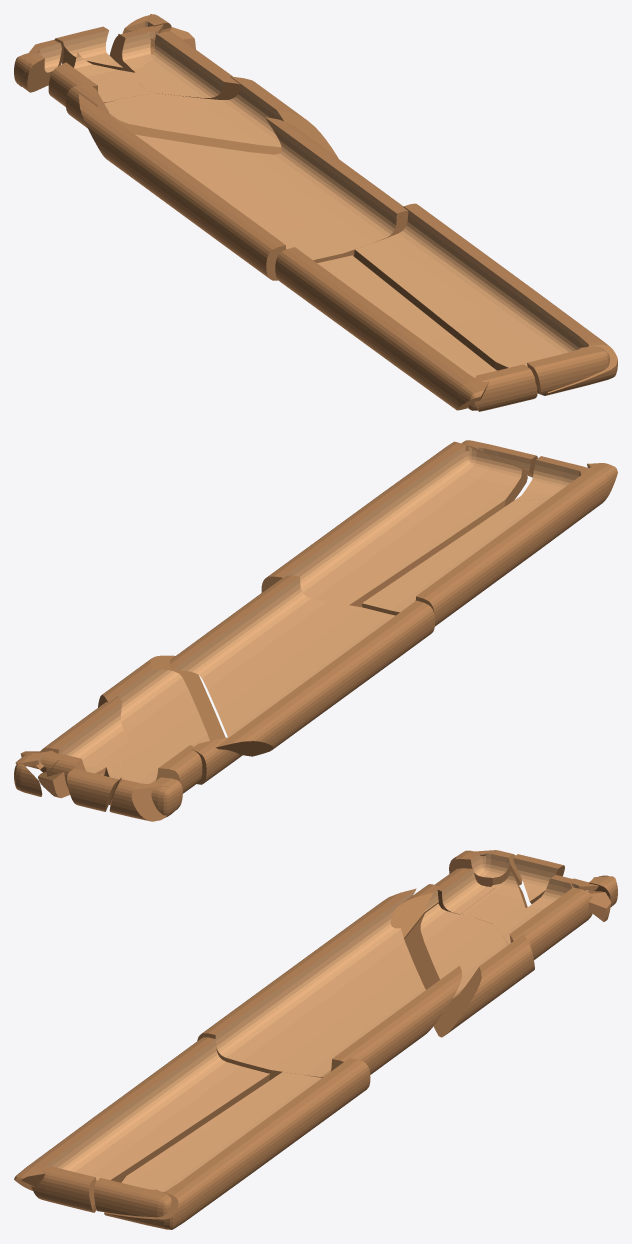
Rendered from Button1.fbx.
The picture shows the model from 3 angles, top to bottom: view 1: azimuth 30°, elevation 25°; view 2: azimuth 150°, elevation 25°; view 3: azimuth 330°, elevation 25°; orthographic projection. The views are drawn at different scales.
Parts seen in each view (by area): view 1: HealthPanel_cell.009, HealthPanel_cell.002, HealthPanel_cell.013, HealthPanel_cell.016, HealthPanel_cell.014, HealthPanel_cell.012, HealthPanel_cell.017, HealthPanel_cell.006, HealthPanel_cell.010, HealthPanel_cell.015, HealthPanel_cell.011, HealthPanel_cell.007 (+1 smaller); view 2: HealthPanel_cell.009, HealthPanel_cell.002, HealthPanel_cell.013, HealthPanel_cell.016, HealthPanel_cell.014, HealthPanel_cell.015, HealthPanel_cell.017, HealthPanel_cell.006, HealthPanel_cell.007, HealthPanel_cell.010, HealthPanel_cell.003, HealthPanel_cell.012 (+4 smaller); view 3: HealthPanel_cell.009, HealthPanel_cell.002, HealthPanel_cell.013, HealthPanel_cell.016, HealthPanel_cell.014, HealthPanel_cell.012, HealthPanel_cell.017, HealthPanel_cell.015, HealthPanel_cell.007, HealthPanel_cell.010, HealthPanel_cell.006, HealthPanel_cell.003 (+2 smaller).
Boxes of the visible parts, <box> form: HealthPanel_cell.009: <box>79,94,408,280</box>; HealthPanel_cell.002: <box>354,203,617,395</box>; HealthPanel_cell.013: <box>275,247,495,410</box>; HealthPanel_cell.016: <box>104,76,338,158</box>; HealthPanel_cell.014: <box>132,31,240,99</box>; HealthPanel_cell.012: <box>527,346,609,394</box>; HealthPanel_cell.017: <box>474,364,537,411</box>; HealthPanel_cell.006: <box>54,26,123,69</box>; HealthPanel_cell.010: <box>74,52,153,99</box>; HealthPanel_cell.015: <box>21,40,61,92</box>; HealthPanel_cell.011: <box>109,30,152,72</box>; HealthPanel_cell.007: <box>48,62,114,106</box>; HealthPanel_cell.009: <box>170,575,434,756</box>; HealthPanel_cell.002: <box>261,441,527,607</box>; HealthPanel_cell.013: <box>362,463,617,626</box>; HealthPanel_cell.016: <box>98,655,225,761</box>; HealthPanel_cell.014: <box>39,696,136,772</box>; HealthPanel_cell.015: <box>109,777,182,821</box>; HealthPanel_cell.017: <box>517,456,589,501</box>; HealthPanel_cell.006: <box>67,768,118,811</box>; HealthPanel_cell.007: <box>141,745,202,793</box>; HealthPanel_cell.010: <box>104,751,167,805</box>; HealthPanel_cell.003: <box>191,737,242,784</box>; HealthPanel_cell.012: <box>461,440,537,477</box>; HealthPanel_cell.009: <box>197,888,461,1080</box>; HealthPanel_cell.002: <box>104,1058,370,1229</box>; HealthPanel_cell.013: <box>14,1037,269,1190</box>; HealthPanel_cell.016: <box>404,903,534,1037</box>; HealthPanel_cell.014: <box>495,887,592,959</box>; HealthPanel_cell.012: <box>94,1178,171,1217</box>; HealthPanel_cell.017: <box>31,1166,114,1212</box>; HealthPanel_cell.015: <box>449,850,522,886</box>; HealthPanel_cell.007: <box>435,868,495,914</box>; HealthPanel_cell.010: <box>462,871,527,924</box>; HealthPanel_cell.006: <box>513,854,564,903</box>; HealthPanel_cell.003: <box>390,884,440,938</box>.
Size of the model in its own units: 146 by 27.24 by 680.
